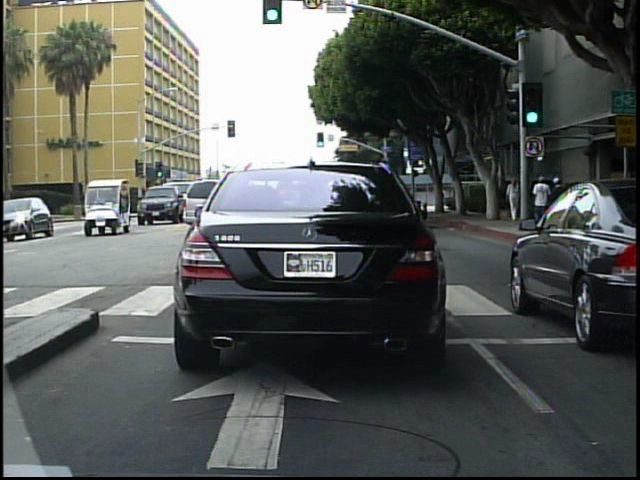person: (551, 171, 576, 232), (529, 174, 554, 232), (505, 174, 522, 222), (436, 183, 450, 213)
